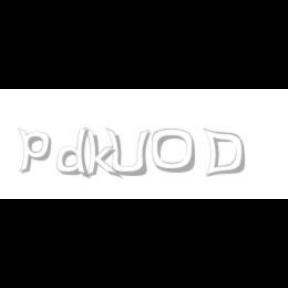D: (202, 128, 246, 178)
O: (152, 128, 196, 174)
U: (104, 128, 150, 178)
d: (57, 128, 94, 180)
k: (84, 128, 122, 180)
p: (18, 128, 55, 174)
